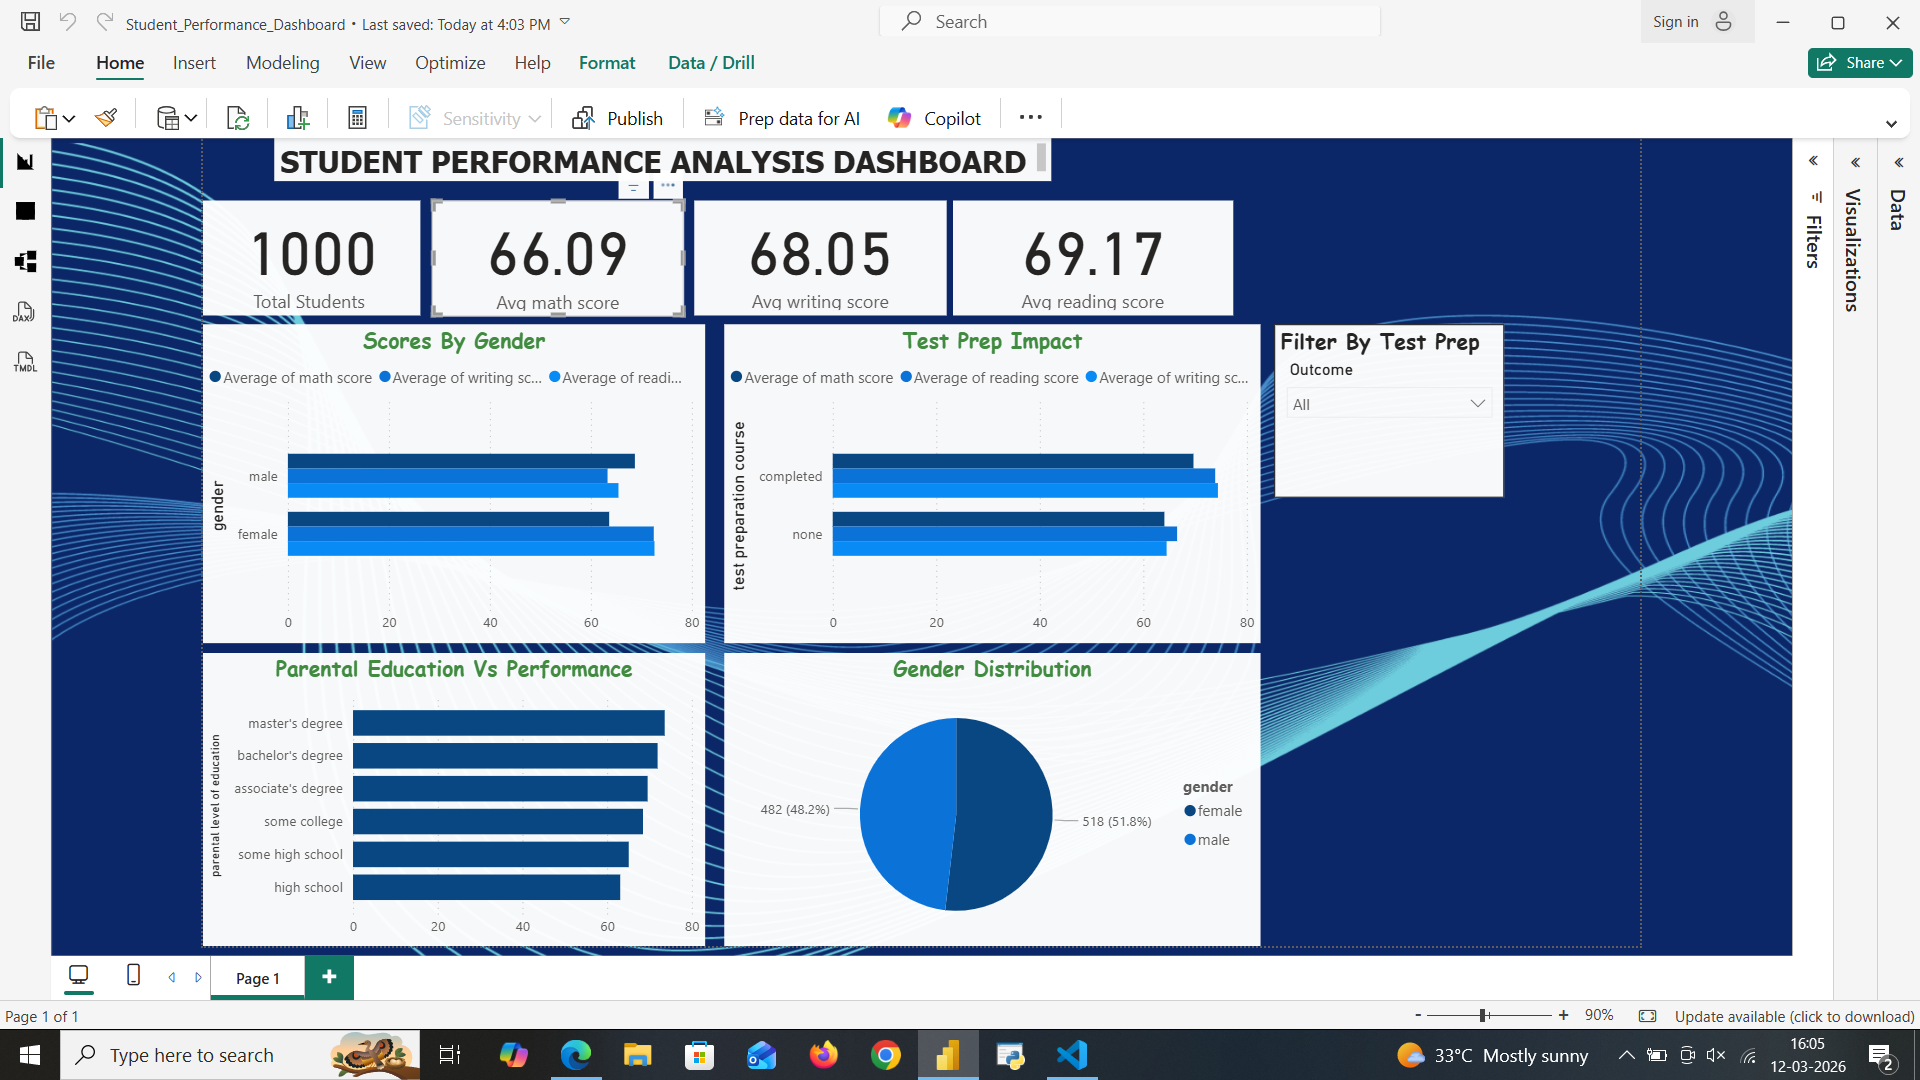

Layout of this report page (visuals, bound fields, positions):
{"tool":"powerbi","page":{"name":"Page 1","canvas":[1280,720],"ordinal":0},"visuals":[{"type":"card","fields":{"Values":["CountNonNull(StudentsPerformance.gender)"]},"box":[0,55.7,193.7,102.4],"z":0},{"type":"card","fields":{"Values":["Avg(StudentsPerformance.math score)"]},"box":[203.7,55.7,224.9,103.5],"z":1},{"type":"card","fields":{"Values":["Avg(StudentsPerformance.writing score)"]},"box":[437.5,55.7,224.9,102.4],"z":2},{"type":"card","fields":{"Values":["Avg(StudentsPerformance.reading score)"]},"box":[667.9,55.7,249.4,102.4],"z":3},{"type":"clusteredBarChart","title":"Scores By Gender","fields":{"Category":["StudentsPerformance.gender"],"Y":["Avg(StudentsPerformance.math score)","Avg(StudentsPerformance.writing score)","Avg(StudentsPerformance.reading score)"]},"box":[0,165.9,447.5,283.9],"z":4},{"type":"clusteredBarChart","title":"Test Prep Impact ","fields":{"Category":["StudentsPerformance.test preparation course"],"Y":["Avg(StudentsPerformance.math score)","Avg(StudentsPerformance.reading score)","Avg(StudentsPerformance.writing score)"]},"box":[464.2,165.9,477.6,283.9],"z":5},{"type":"clusteredBarChart","title":"Parental Education Vs Performance ","fields":{"Category":["StudentsPerformance.parental level of education"],"Y":["Avg(StudentsPerformance.Average Score)"]},"box":[0,458.6,447.5,261.6],"z":6},{"type":"pieChart","title":"Gender Distribution ","fields":{"Category":["StudentsPerformance.gender"],"Y":["CountNonNull(StudentsPerformance.gender)"]},"box":[464.2,458.6,477.6,261.6],"z":7},{"type":"slicer","title":"Filter By Test Prep","fields":{"Values":["StudentsPerformance.test preparation course"]},"box":[954,165.9,204.8,154.7],"z":8},{"type":"textbox","box":[63.8,0,692,38],"z":9}]}

Visuals, with their boxes on the page's 1280x720 design canvas (x1, y1, x2, y2). These are canvas units, not pixel positions in the 1920x1080 screenshot, which may show the page scaled, cropped or inside an application window:
card - CountNonNull(StudentsPerformance.gender): <box>0,56,194,158</box>
card - Avg(StudentsPerformance.math score): <box>204,56,429,159</box>
card - Avg(StudentsPerformance.writing score): <box>438,56,662,158</box>
card - Avg(StudentsPerformance.reading score): <box>668,56,917,158</box>
"Scores By Gender" clusteredBarChart: <box>0,166,448,450</box>
"Test Prep Impact " clusteredBarChart: <box>464,166,942,450</box>
"Parental Education Vs Performance " clusteredBarChart: <box>0,459,448,720</box>
"Gender Distribution " pieChart: <box>464,459,942,720</box>
"Filter By Test Prep" slicer: <box>954,166,1159,321</box>
textbox: <box>64,0,756,38</box>
